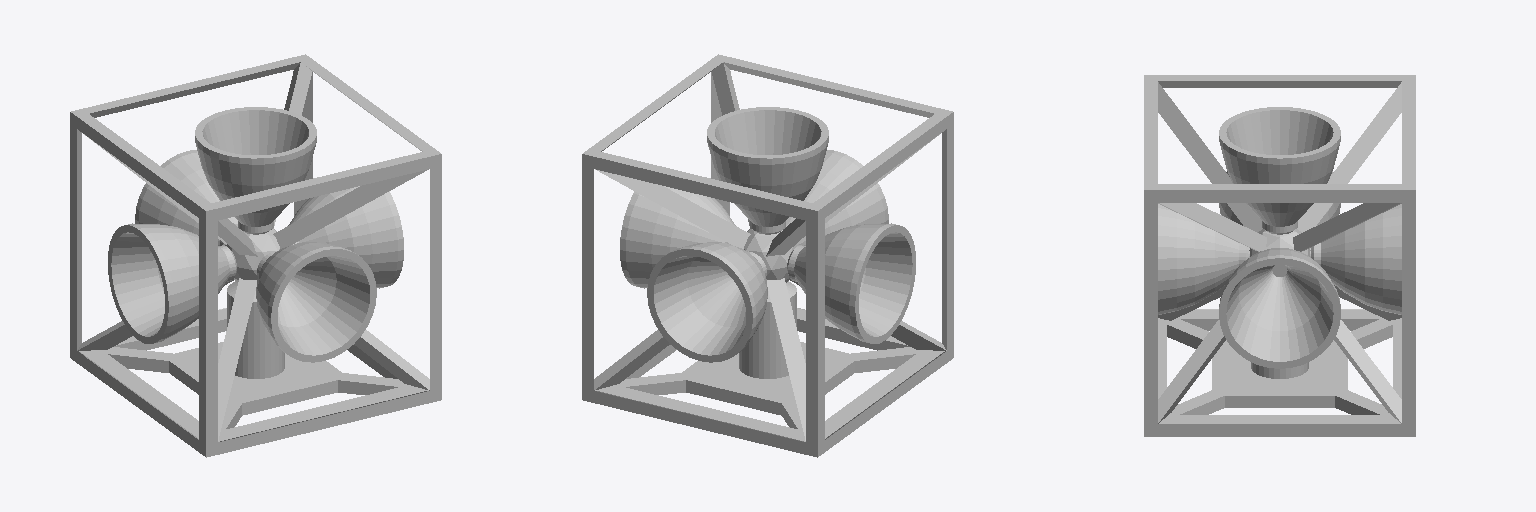
Rendered from thruster5.obj.
3 renders of one model, left to right at view 1: azimuth 30°, elevation 25°; view 2: azimuth 150°, elevation 25°; view 3: azimuth 270°, elevation 25°, orthographic.
Parts seen in each view (by area): view 1: Frame.001_Cube.007, Plane.001, Thruster.004_Cylinder.012, Thruster.003_Cylinder.011, Thruster.005_Cylinder.013, Thruster.001_Cylinder.009, Thruster.002_Cylinder.010, Cylinder.025_Cylinder.005, Icosphere.001; view 2: Frame.001_Cube.007, Plane.001, Thruster.002_Cylinder.010, Thruster.003_Cylinder.011, Thruster.005_Cylinder.013, Thruster.001_Cylinder.009, Thruster.004_Cylinder.012, Cylinder.025_Cylinder.005, Icosphere.001; view 3: Frame.001_Cube.007, Plane.001, Thruster.001_Cylinder.009, Thruster.005_Cylinder.013, Thruster.002_Cylinder.010, Thruster.004_Cylinder.012, Cylinder.025_Cylinder.005, Icosphere.001.
Part boxes in pixels (bbox=[...]): Frame.001_Cube.007: bbox=[70, 54, 441, 457]; Plane.001: bbox=[79, 308, 428, 441]; Thruster.004_Cylinder.012: bbox=[256, 242, 376, 362]; Thruster.003_Cylinder.011: bbox=[108, 223, 236, 343]; Thruster.005_Cylinder.013: bbox=[195, 107, 316, 234]; Thruster.001_Cylinder.009: bbox=[288, 186, 403, 288]; Thruster.002_Cylinder.010: bbox=[135, 150, 237, 245]; Cylinder.025_Cylinder.005: bbox=[227, 281, 284, 378]; Icosphere.001: bbox=[225, 228, 279, 282]; Frame.001_Cube.007: bbox=[582, 54, 953, 457]; Plane.001: bbox=[595, 308, 944, 441]; Thruster.002_Cylinder.010: bbox=[647, 242, 767, 362]; Thruster.003_Cylinder.011: bbox=[787, 223, 915, 343]; Thruster.005_Cylinder.013: bbox=[707, 107, 828, 234]; Thruster.001_Cylinder.009: bbox=[620, 186, 735, 288]; Thruster.004_Cylinder.012: bbox=[786, 150, 888, 245]; Cylinder.025_Cylinder.005: bbox=[739, 281, 796, 378]; Icosphere.001: bbox=[744, 228, 798, 282]; Frame.001_Cube.007: bbox=[1144, 75, 1415, 436]; Plane.001: bbox=[1158, 310, 1401, 423]; Thruster.001_Cylinder.009: bbox=[1219, 248, 1340, 368]; Thruster.005_Cylinder.013: bbox=[1219, 107, 1340, 234]; Thruster.002_Cylinder.010: bbox=[1310, 204, 1401, 314]; Thruster.004_Cylinder.012: bbox=[1158, 204, 1249, 314]; Cylinder.025_Cylinder.005: bbox=[1251, 362, 1308, 378]; Icosphere.001: bbox=[1249, 229, 1310, 256].
Size of the model in its own units: 3 by 3 by 3.